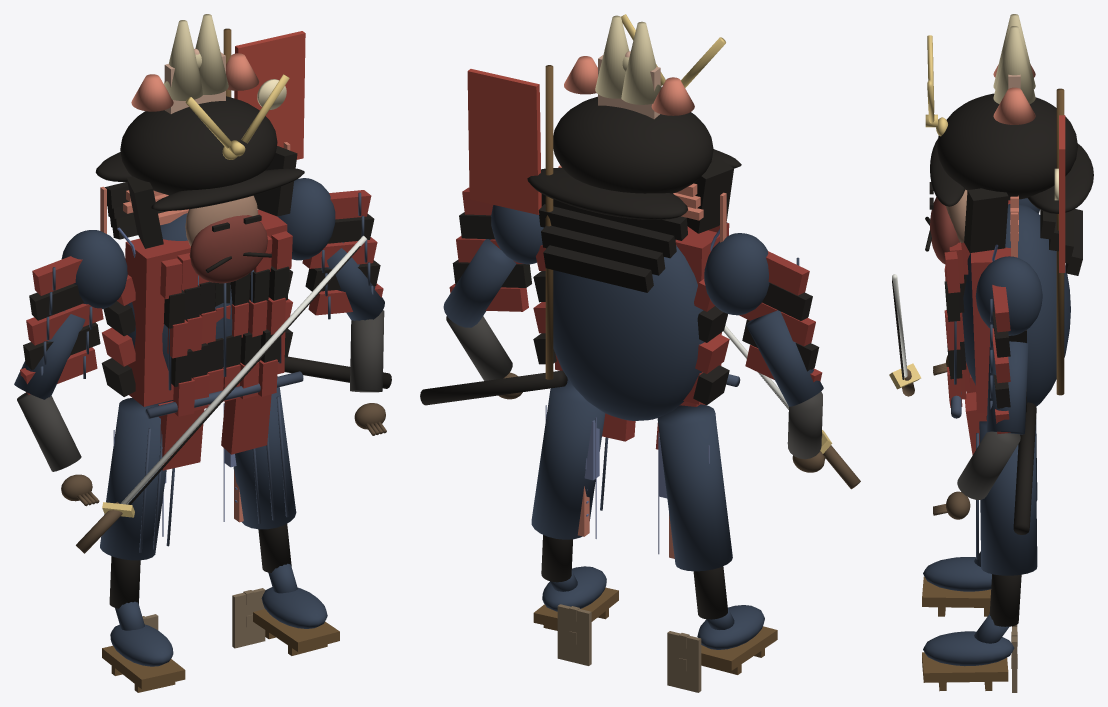
The model's file is samurai_character_v6.glb.
3 views of the same model, side by side, from view 1: azimuth 30°, elevation 25°; view 2: azimuth 150°, elevation 25°; view 3: azimuth 270°, elevation 25° (orthographic). The views are drawn at different scales.
Visible parts, largest first — view 1: kabuto_helmet_bowl, left_hakama_outer_fold, do_cuirass_core, small_back_sashimono_cloth, right_hakama_outer_fold, mempo_cheek_mask, left_rounded_shoulder_undercloth, right_rounded_shoulder_undercloth, left_forearm_kote, helmet_front_brim, right_forearm_kote, kusazuri_front_right (+54 smaller); view 2: cloth_torso_underlayer, kabuto_helmet_bowl, left_hakama_outer_fold, small_back_sashimono_cloth, right_hakama_outer_fold, left_rounded_shoulder_undercloth, helmet_rear_flare, left_upper_arm_cloth, right_upper_arm_cloth, shikoro_neck_guard_1, shikoro_neck_guard_3, shikoro_neck_guard_2 (+32 smaller); view 3: kabuto_helmet_bowl, cloth_torso_underlayer, right_hakama_outer_fold, right_rounded_shoulder_undercloth, right_fukigaeshi_flare, right_upper_arm_cloth, right_forearm_kote, right_tabi_sock, do_cuirass_core, scabbard_at_hip, left_tabi_sock, helmet_rear_flare (+28 smaller).
Part boxes in pixels (x1,y1,x2,y2): kabuto_helmet_bowl: (120, 96, 277, 195); left_hakama_outer_fold: (100, 398, 166, 560); do_cuirass_core: (125, 209, 287, 406); small_back_sashimono_cloth: (234, 31, 305, 159); right_hakama_outer_fold: (233, 376, 296, 529); mempo_cheek_mask: (189, 215, 267, 283); left_rounded_shoulder_undercloth: (61, 230, 127, 308); right_rounded_shoulder_undercloth: (278, 178, 335, 260); left_forearm_kote: (17, 392, 81, 471); helmet_front_brim: (151, 168, 304, 211); right_forearm_kote: (350, 310, 384, 392); kusazuri_front_right: (221, 394, 271, 454); cloth_torso_underlayer: (553, 245, 704, 420); kabuto_helmet_bowl: (553, 96, 713, 193); left_hakama_outer_fold: (657, 404, 732, 571); small_back_sashimono_cloth: (467, 69, 541, 214); right_hakama_outer_fold: (531, 378, 605, 539); left_rounded_shoulder_undercloth: (704, 233, 769, 315); helmet_rear_flare: (527, 168, 687, 219); left_upper_arm_cloth: (746, 310, 823, 406); right_upper_arm_cloth: (443, 239, 516, 327); shikoro_neck_guard_1: (539, 204, 676, 258); shikoro_neck_guard_3: (543, 245, 653, 292); shikoro_neck_guard_2: (541, 225, 665, 275); kabuto_helmet_bowl: (937, 93, 1077, 200); cloth_torso_underlayer: (962, 204, 1070, 406); right_hakama_outer_fold: (979, 416, 1037, 575); right_rounded_shoulder_undercloth: (975, 256, 1042, 335); right_fukigaeshi_flare: (964, 188, 1008, 252); right_upper_arm_cloth: (986, 341, 1028, 434); right_forearm_kote: (957, 431, 1020, 499); right_tabi_sock: (923, 631, 1014, 666); do_cuirass_core: (971, 200, 1010, 412); scabbard_at_hip: (1013, 402, 1036, 534); left_tabi_sock: (923, 557, 991, 591); helmet_rear_flare: (1027, 143, 1093, 213).
Size of the model in its own units: 1.25 by 2 by 0.5809.
